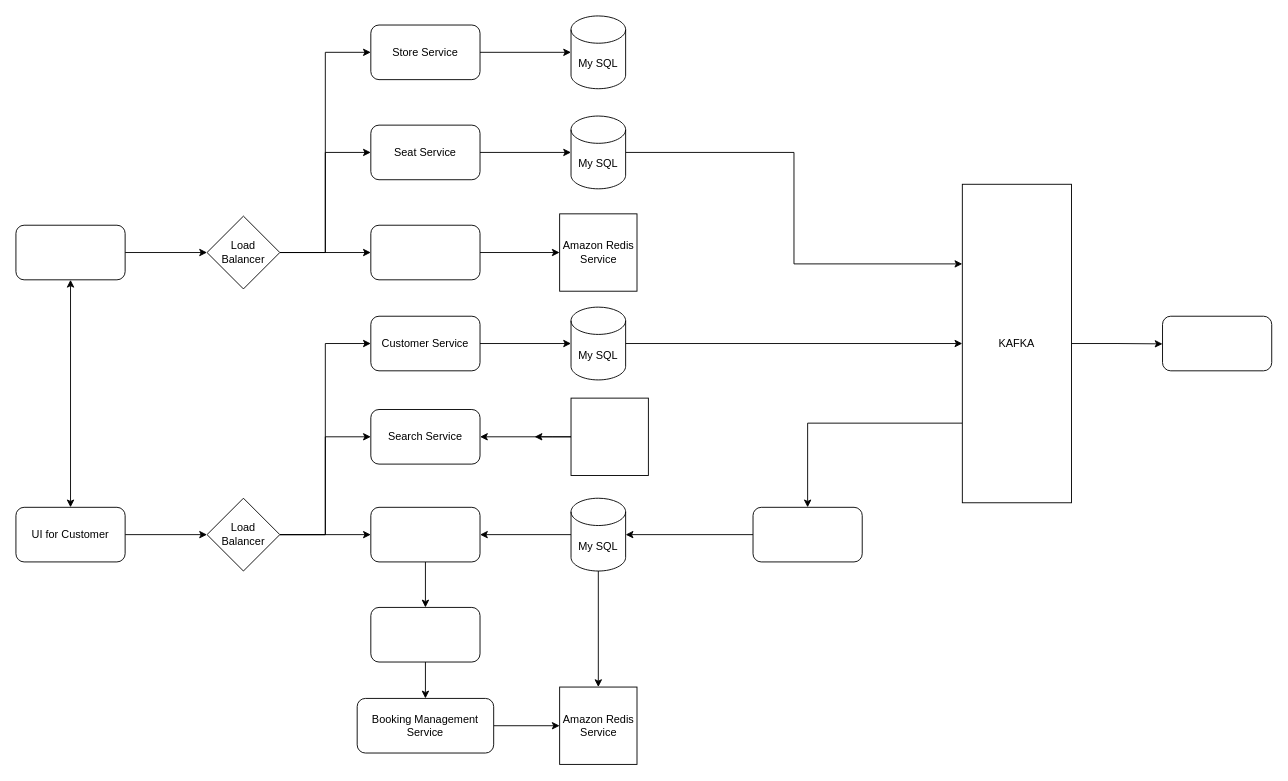
Image size: 1288x781. Some labels were removed from this diagram. Here are the shapes that lost their labels. From the top down, the box of each, then its label:
(15, 224, 125, 280): UI for Store
(370, 224, 480, 280): Seat Availability Service
(1162, 315, 1272, 371): Notification Service
(570, 397, 648, 475): Elasticsearch Service
(370, 506, 480, 562): Booking Service
(752, 506, 862, 562): Archive Service
(370, 607, 480, 662): Payment Service
